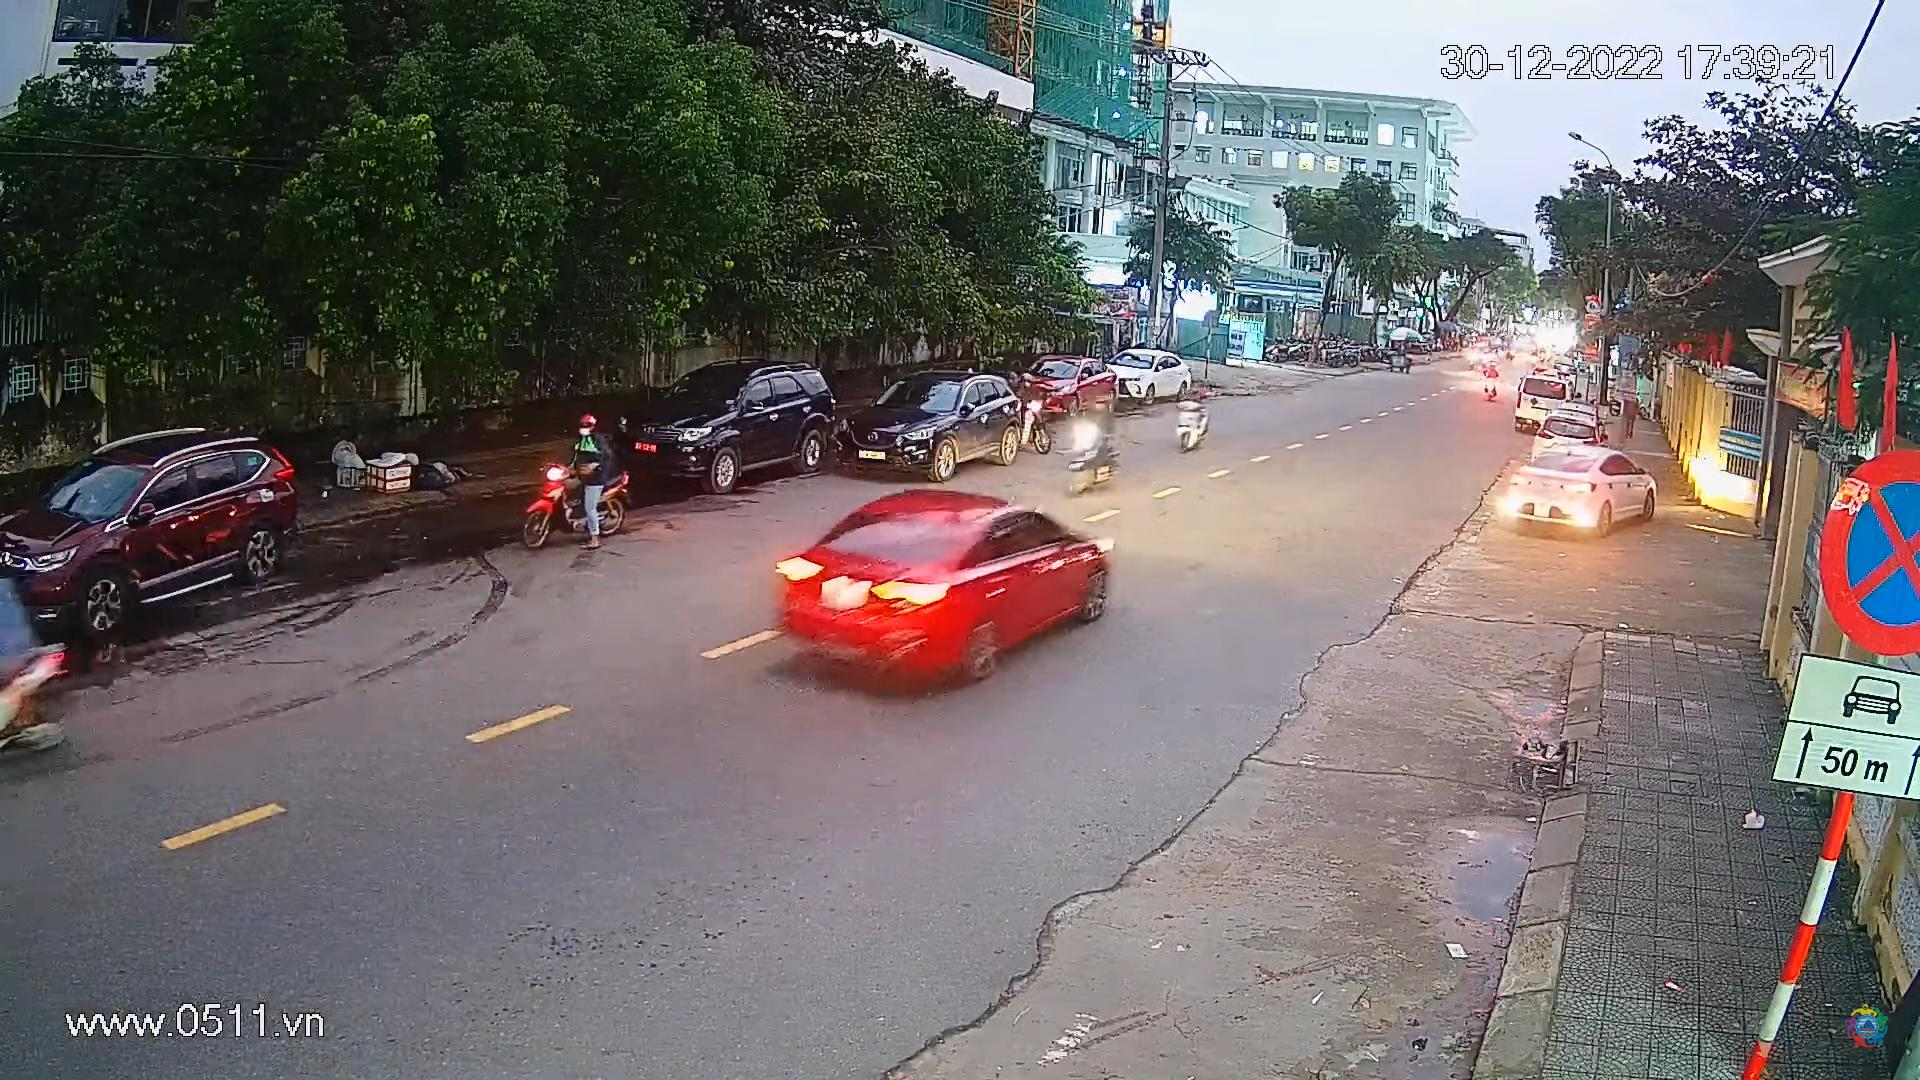car: (761, 476, 1120, 692), (0, 425, 306, 636), (618, 352, 843, 496), (841, 361, 1029, 481), (1497, 448, 1660, 533), (1014, 347, 1120, 418), (1104, 342, 1192, 405), (1513, 377, 1572, 431), (1528, 421, 1597, 462)
motorcycle: (516, 409, 630, 546), (1048, 388, 1122, 504), (1168, 384, 1213, 455)
